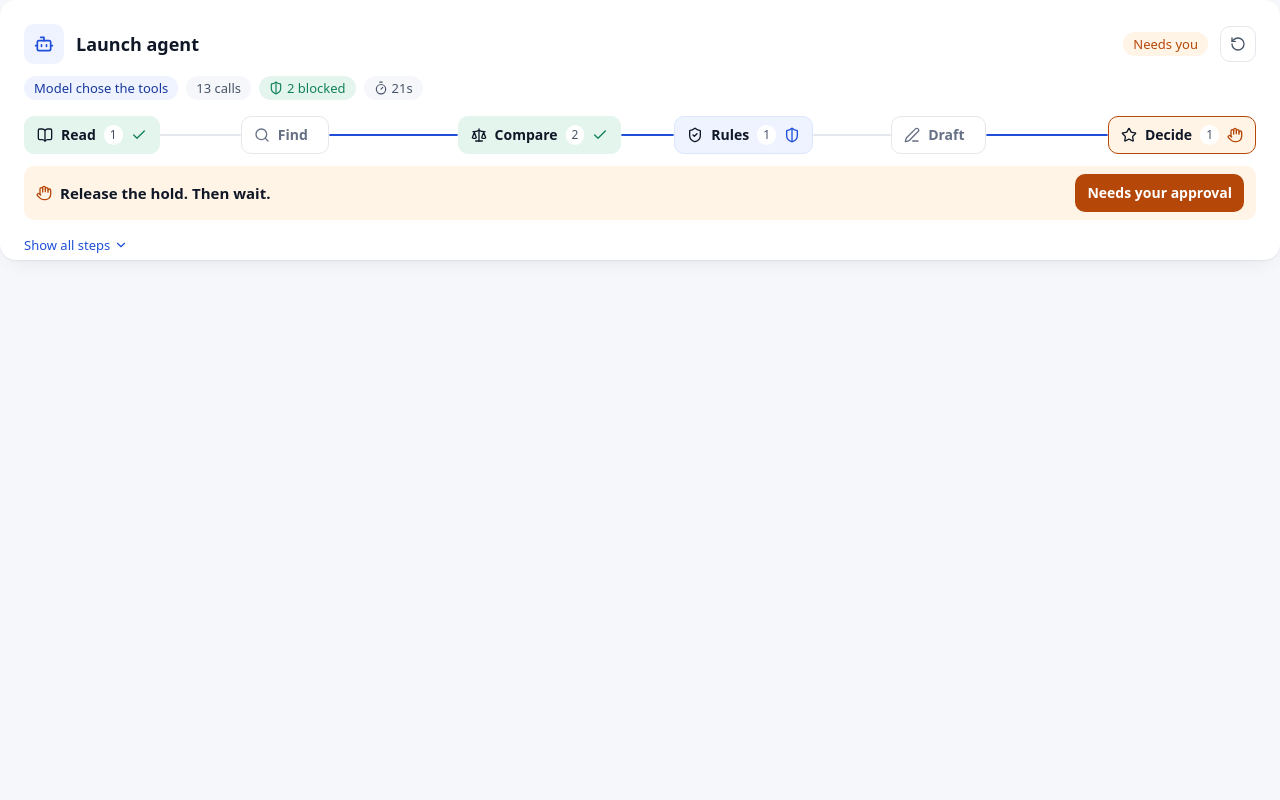
Test case: AgentLive › expands a step to show the autonomy chip
This screenshot has width=1280, height=800.
What coordinates should you click on to do the following:
click the button "Show all steps"
I would click on:
 (76, 245)
Its box is [24,232,128,258].
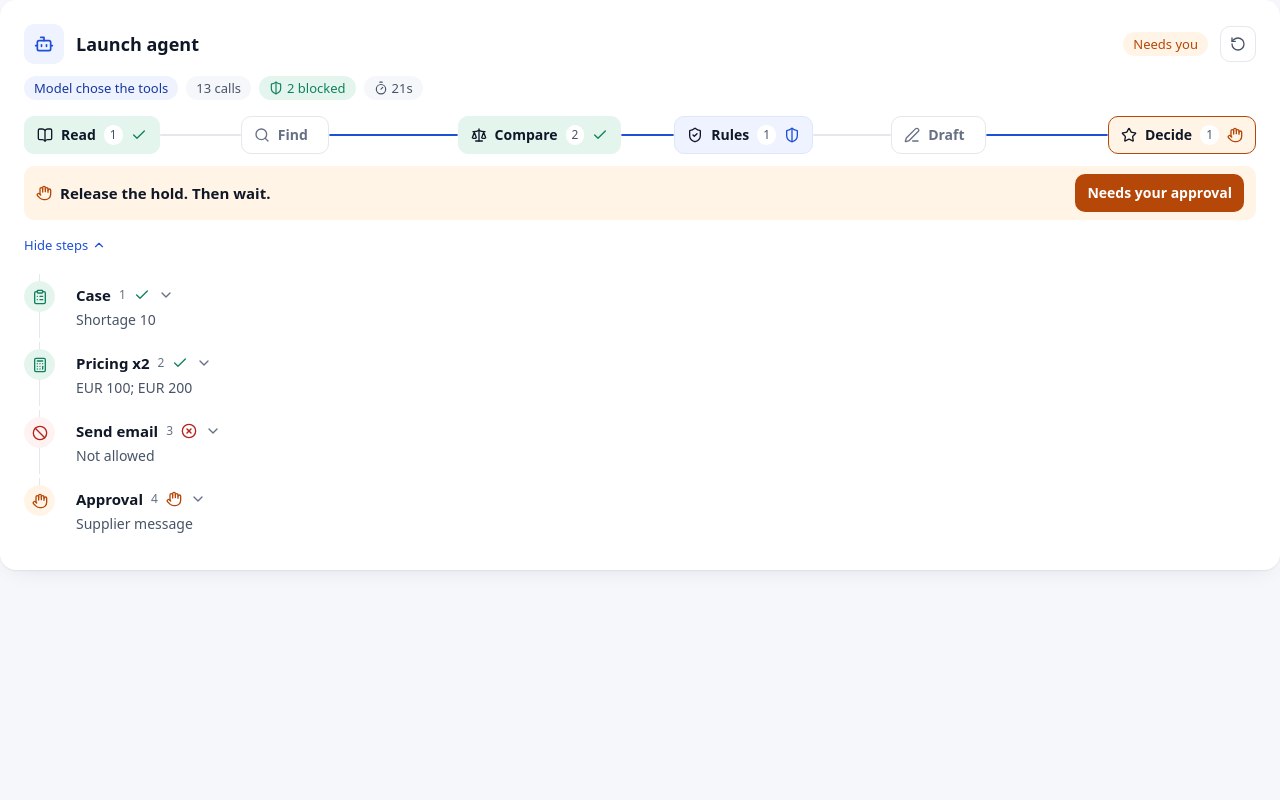
What coordinates should you click on to do the following:
click the button "Case 1 Shortage 10"
I would click on:
 (93, 295)
Its box is [64,274,1256,338].
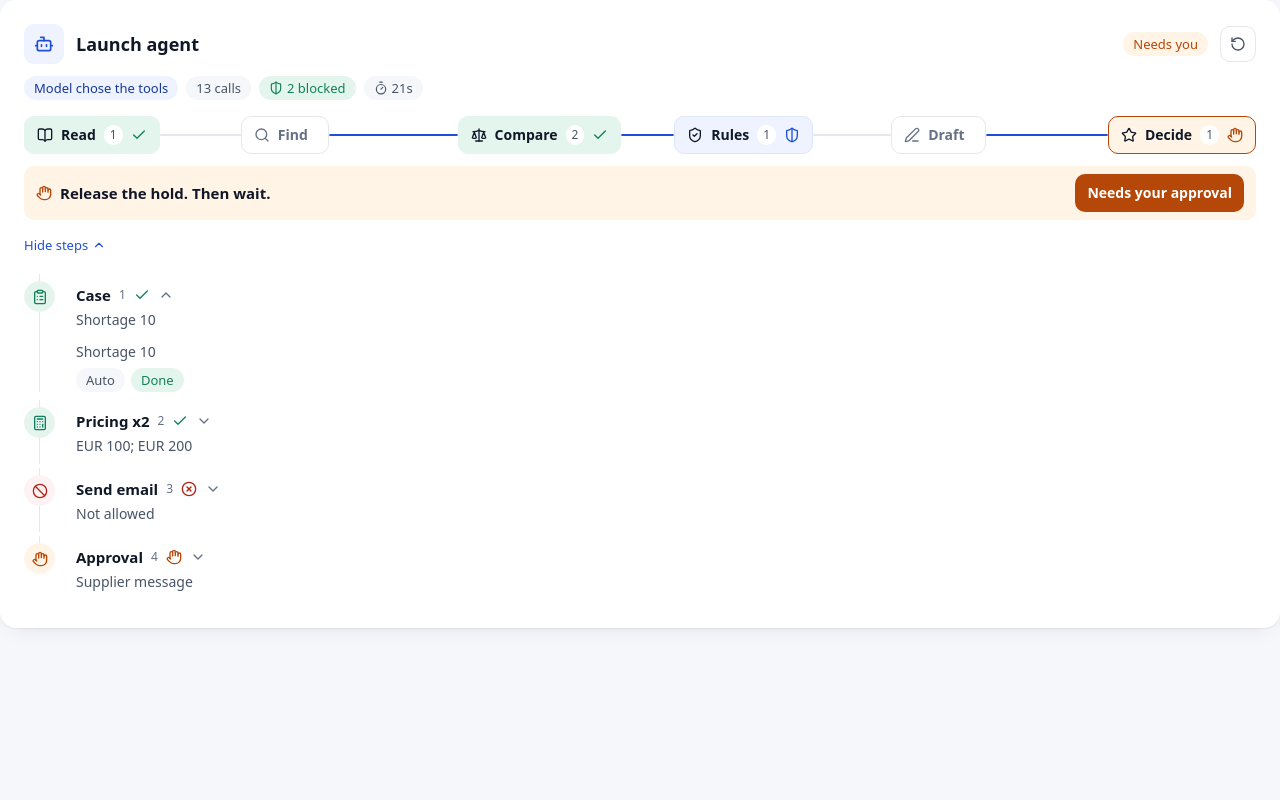
expect the button "Case 1 Shortage 10" is expanded: met, box [64,274,1256,338]
expect the element with test id "agent-step-detail" shows "Auto": met, box [86,371,115,389]
expect the element with test id "agent-step-detail" shows "Shortage 10": met, box [76,342,156,361]
